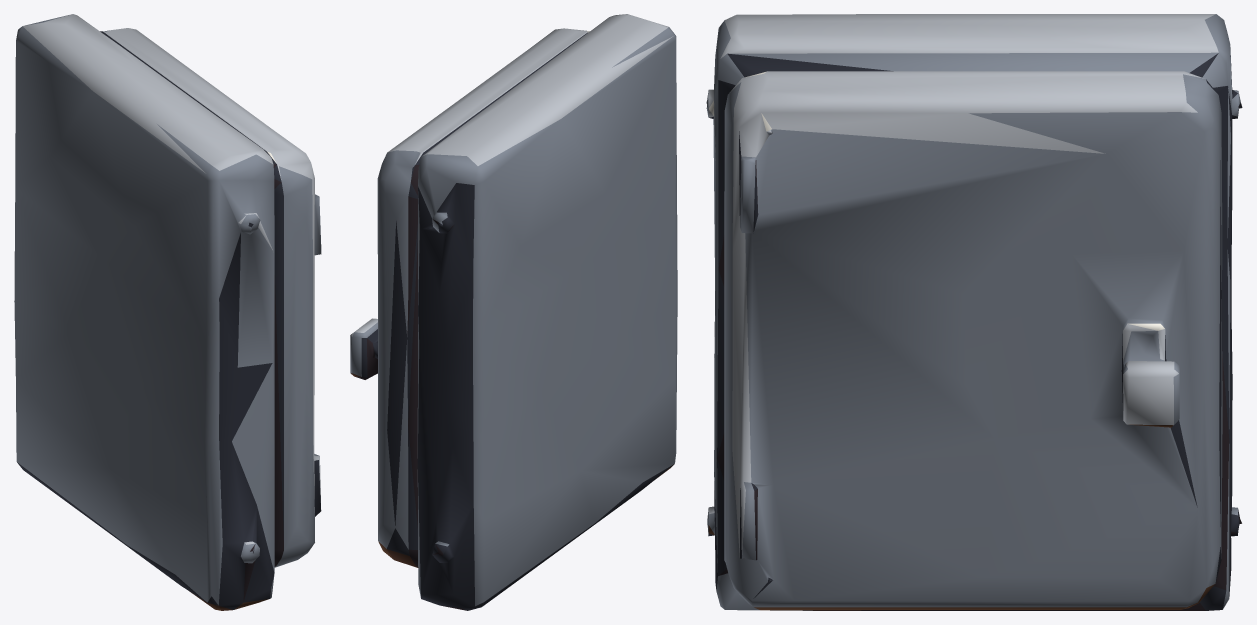
Rendered from SM_breaker_box.fbx.
The picture shows the model from 3 angles, left to right: view 1: azimuth 30°, elevation 25°; view 2: azimuth 150°, elevation 25°; view 3: azimuth 270°, elevation 25°; orthographic projection. The views are drawn at different scales.
Visible parts, largest first — view 1: SM_breaker_box; view 2: SM_breaker_box; view 3: SM_breaker_box.
Part boxes in pixels (x1,y1,x2,y2): SM_breaker_box: (14,14,321,610); SM_breaker_box: (350,14,677,610); SM_breaker_box: (706,14,1242,610).
Size of the model in its own units: 16 by 45 by 38.3.
Materials: 1 (1 with a texture image).
